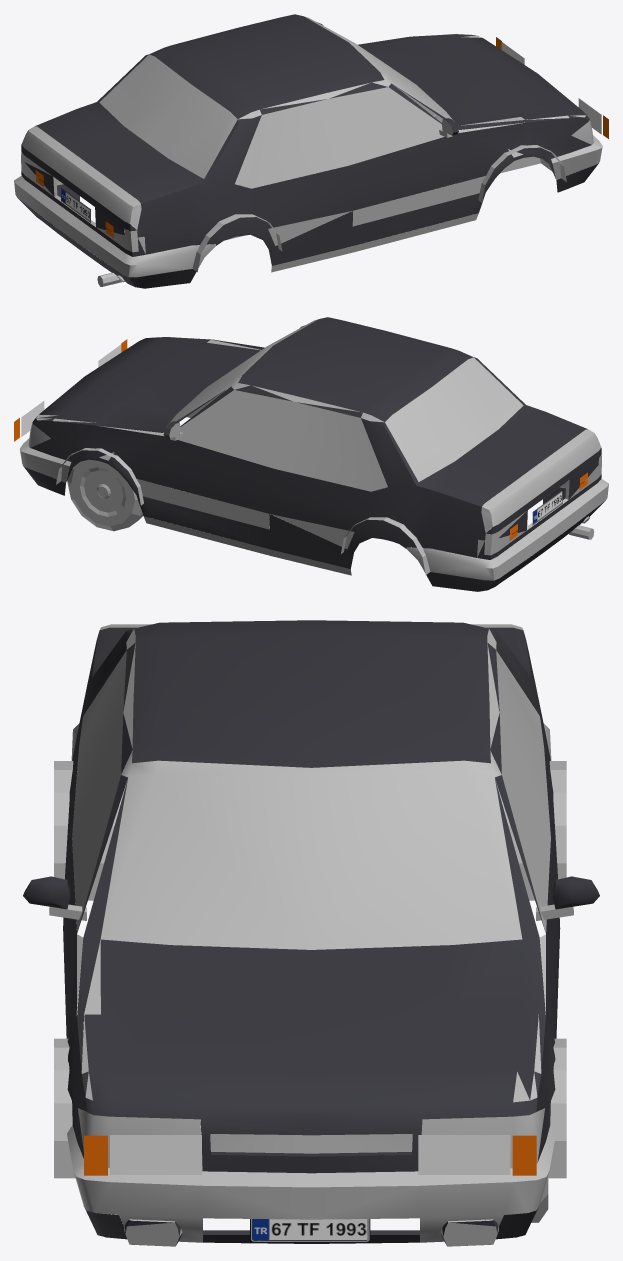
Rendered from dogan-compressed.glb.
The picture shows the model from 3 angles, top to bottom: view 1: azimuth 30°, elevation 25°; view 2: azimuth 150°, elevation 25°; view 3: azimuth 270°, elevation 25°; orthographic projection. The views are drawn at different scales.
Parts seen in each view (by area): view 1: bodyPainted, common, headlights, licensePlateRear; view 2: bodyPainted, common, wheel, headlights, licensePlateRear; view 3: bodyPainted, common, headlights, licensePlateFront, blinkerLeft, blinkerRight.
Boxes of the visible parts, x1,y1,x2,y2 form: bodyPainted: [18, 14, 598, 288]; common: [14, 14, 602, 286]; headlights: [501, 42, 601, 134]; licensePlateRear: [61, 188, 90, 222]; bodyPainted: [24, 317, 604, 591]; common: [19, 317, 608, 580]; wheel: [67, 459, 143, 531]; headlights: [21, 344, 121, 436]; licensePlateRear: [532, 490, 562, 525]; bodyPainted: [23, 620, 599, 1245]; common: [32, 624, 596, 1246]; headlights: [110, 1135, 510, 1174]; licensePlateFront: [250, 1219, 370, 1242]; blinkerLeft: [512, 1135, 536, 1175]; blinkerRight: [84, 1135, 107, 1175].
Bounding box in the file's own units: 2.81 × 0.9481 × 1.44.
5 materials, 1 textured.
